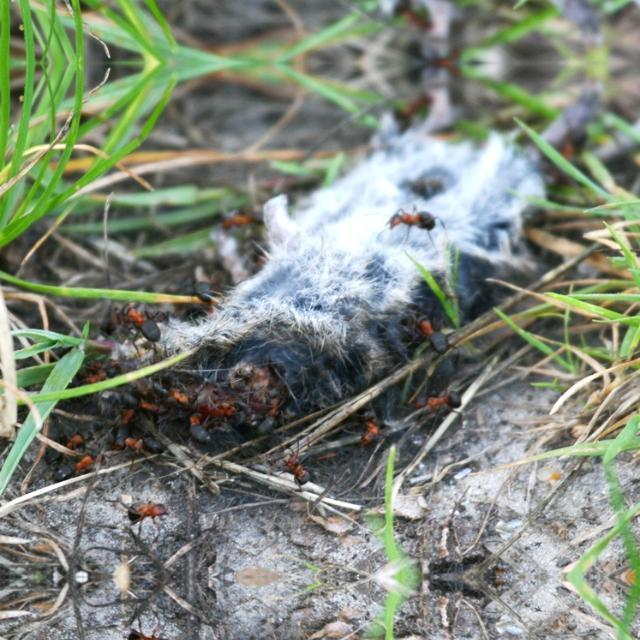Formica: (402, 291, 454, 364), (344, 390, 394, 460), (410, 378, 472, 427), (391, 196, 444, 244), (120, 492, 177, 536), (252, 380, 292, 440), (214, 198, 278, 235), (120, 294, 168, 342), (270, 446, 318, 490), (51, 446, 100, 488), (107, 427, 165, 458), (156, 371, 200, 411), (176, 399, 212, 447), (80, 355, 126, 391), (118, 616, 176, 640), (120, 391, 168, 417), (60, 421, 98, 445)
